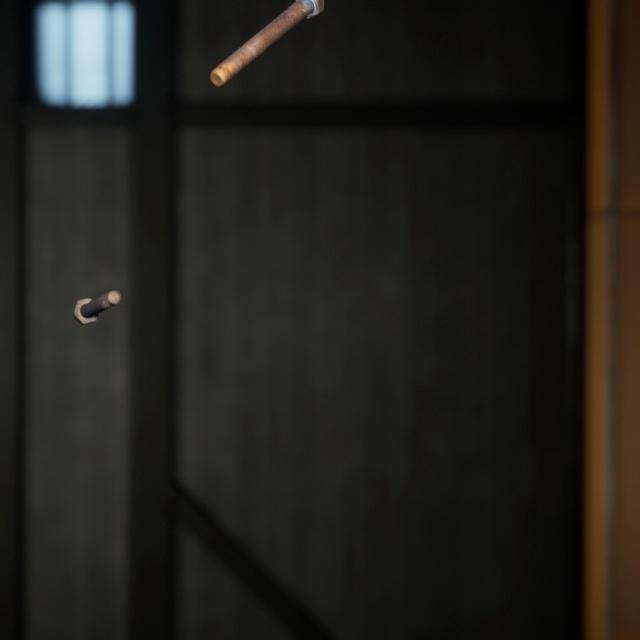bolt: (205, 0, 328, 80), (67, 267, 126, 312)
